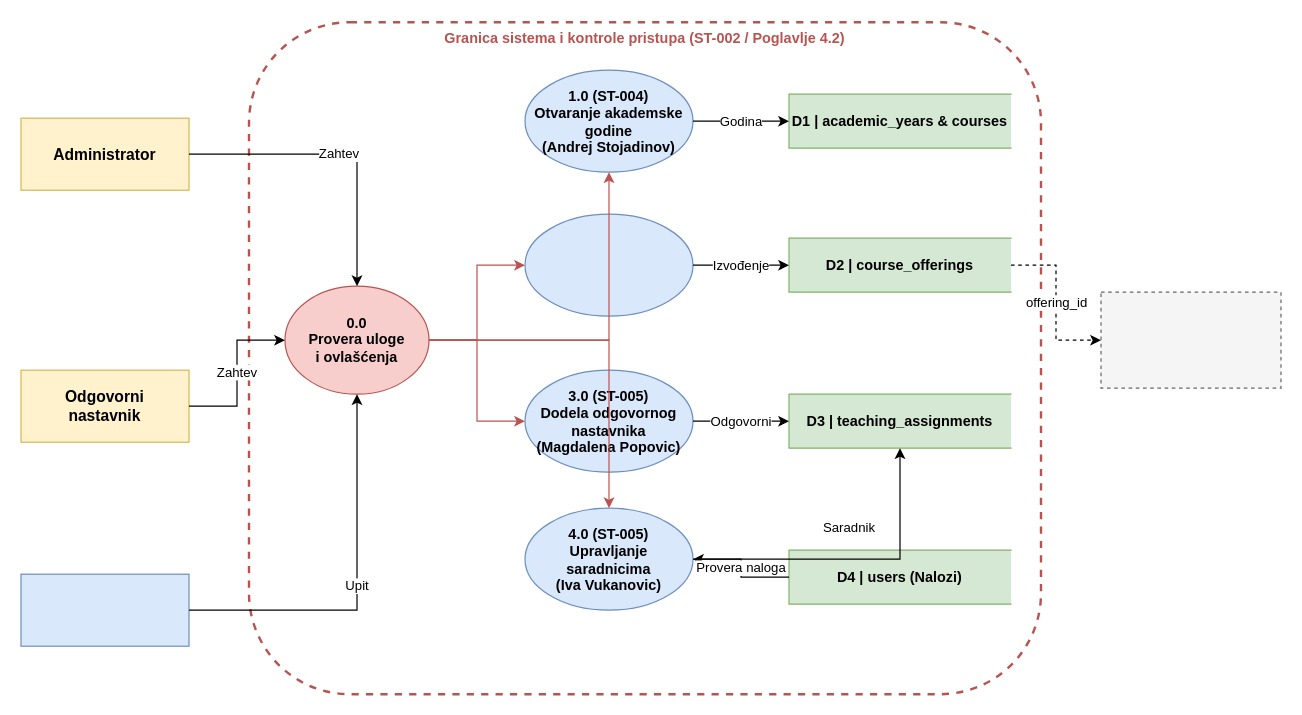
The diagram is 1302 pixels wide and 715 high, and some of its shapes have lost their labels. Here are the shapes that lost their labels. From the top down, the box of each, then its label:
(524, 213, 693, 316): 2.0 (ST-004) Upravljanje izvođenjem predmeta (Sara Samadrdzic)
(1100, 291, 1281, 388): Ostali moduli STUDIUM sistema (ST-006..ST-091)
(20, 573, 189, 646): Nastavnik / Asistent
